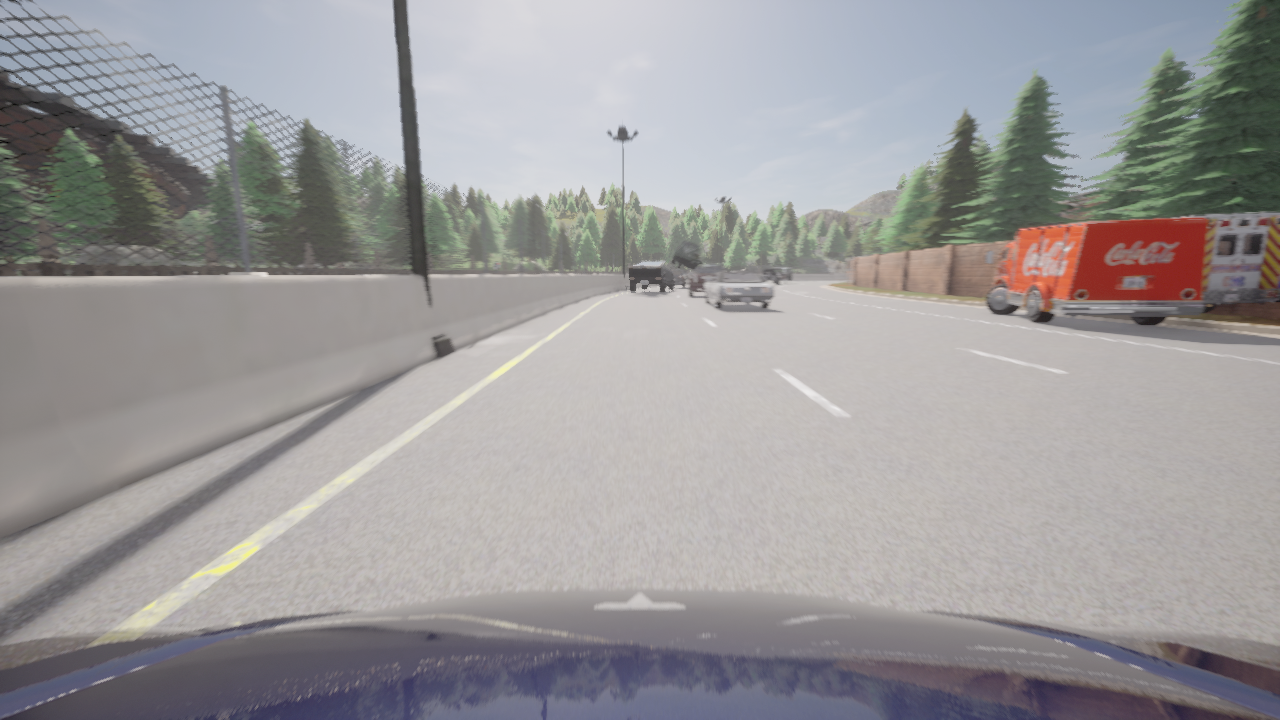cyclist: (0, 588, 1279, 719), (985, 217, 1208, 325), (1173, 212, 1279, 313), (705, 271, 774, 308), (628, 261, 674, 292), (688, 263, 723, 297), (671, 240, 705, 270), (772, 267, 793, 283), (672, 269, 689, 287), (761, 268, 780, 284)
pedestrian: (338, 263, 343, 267)
